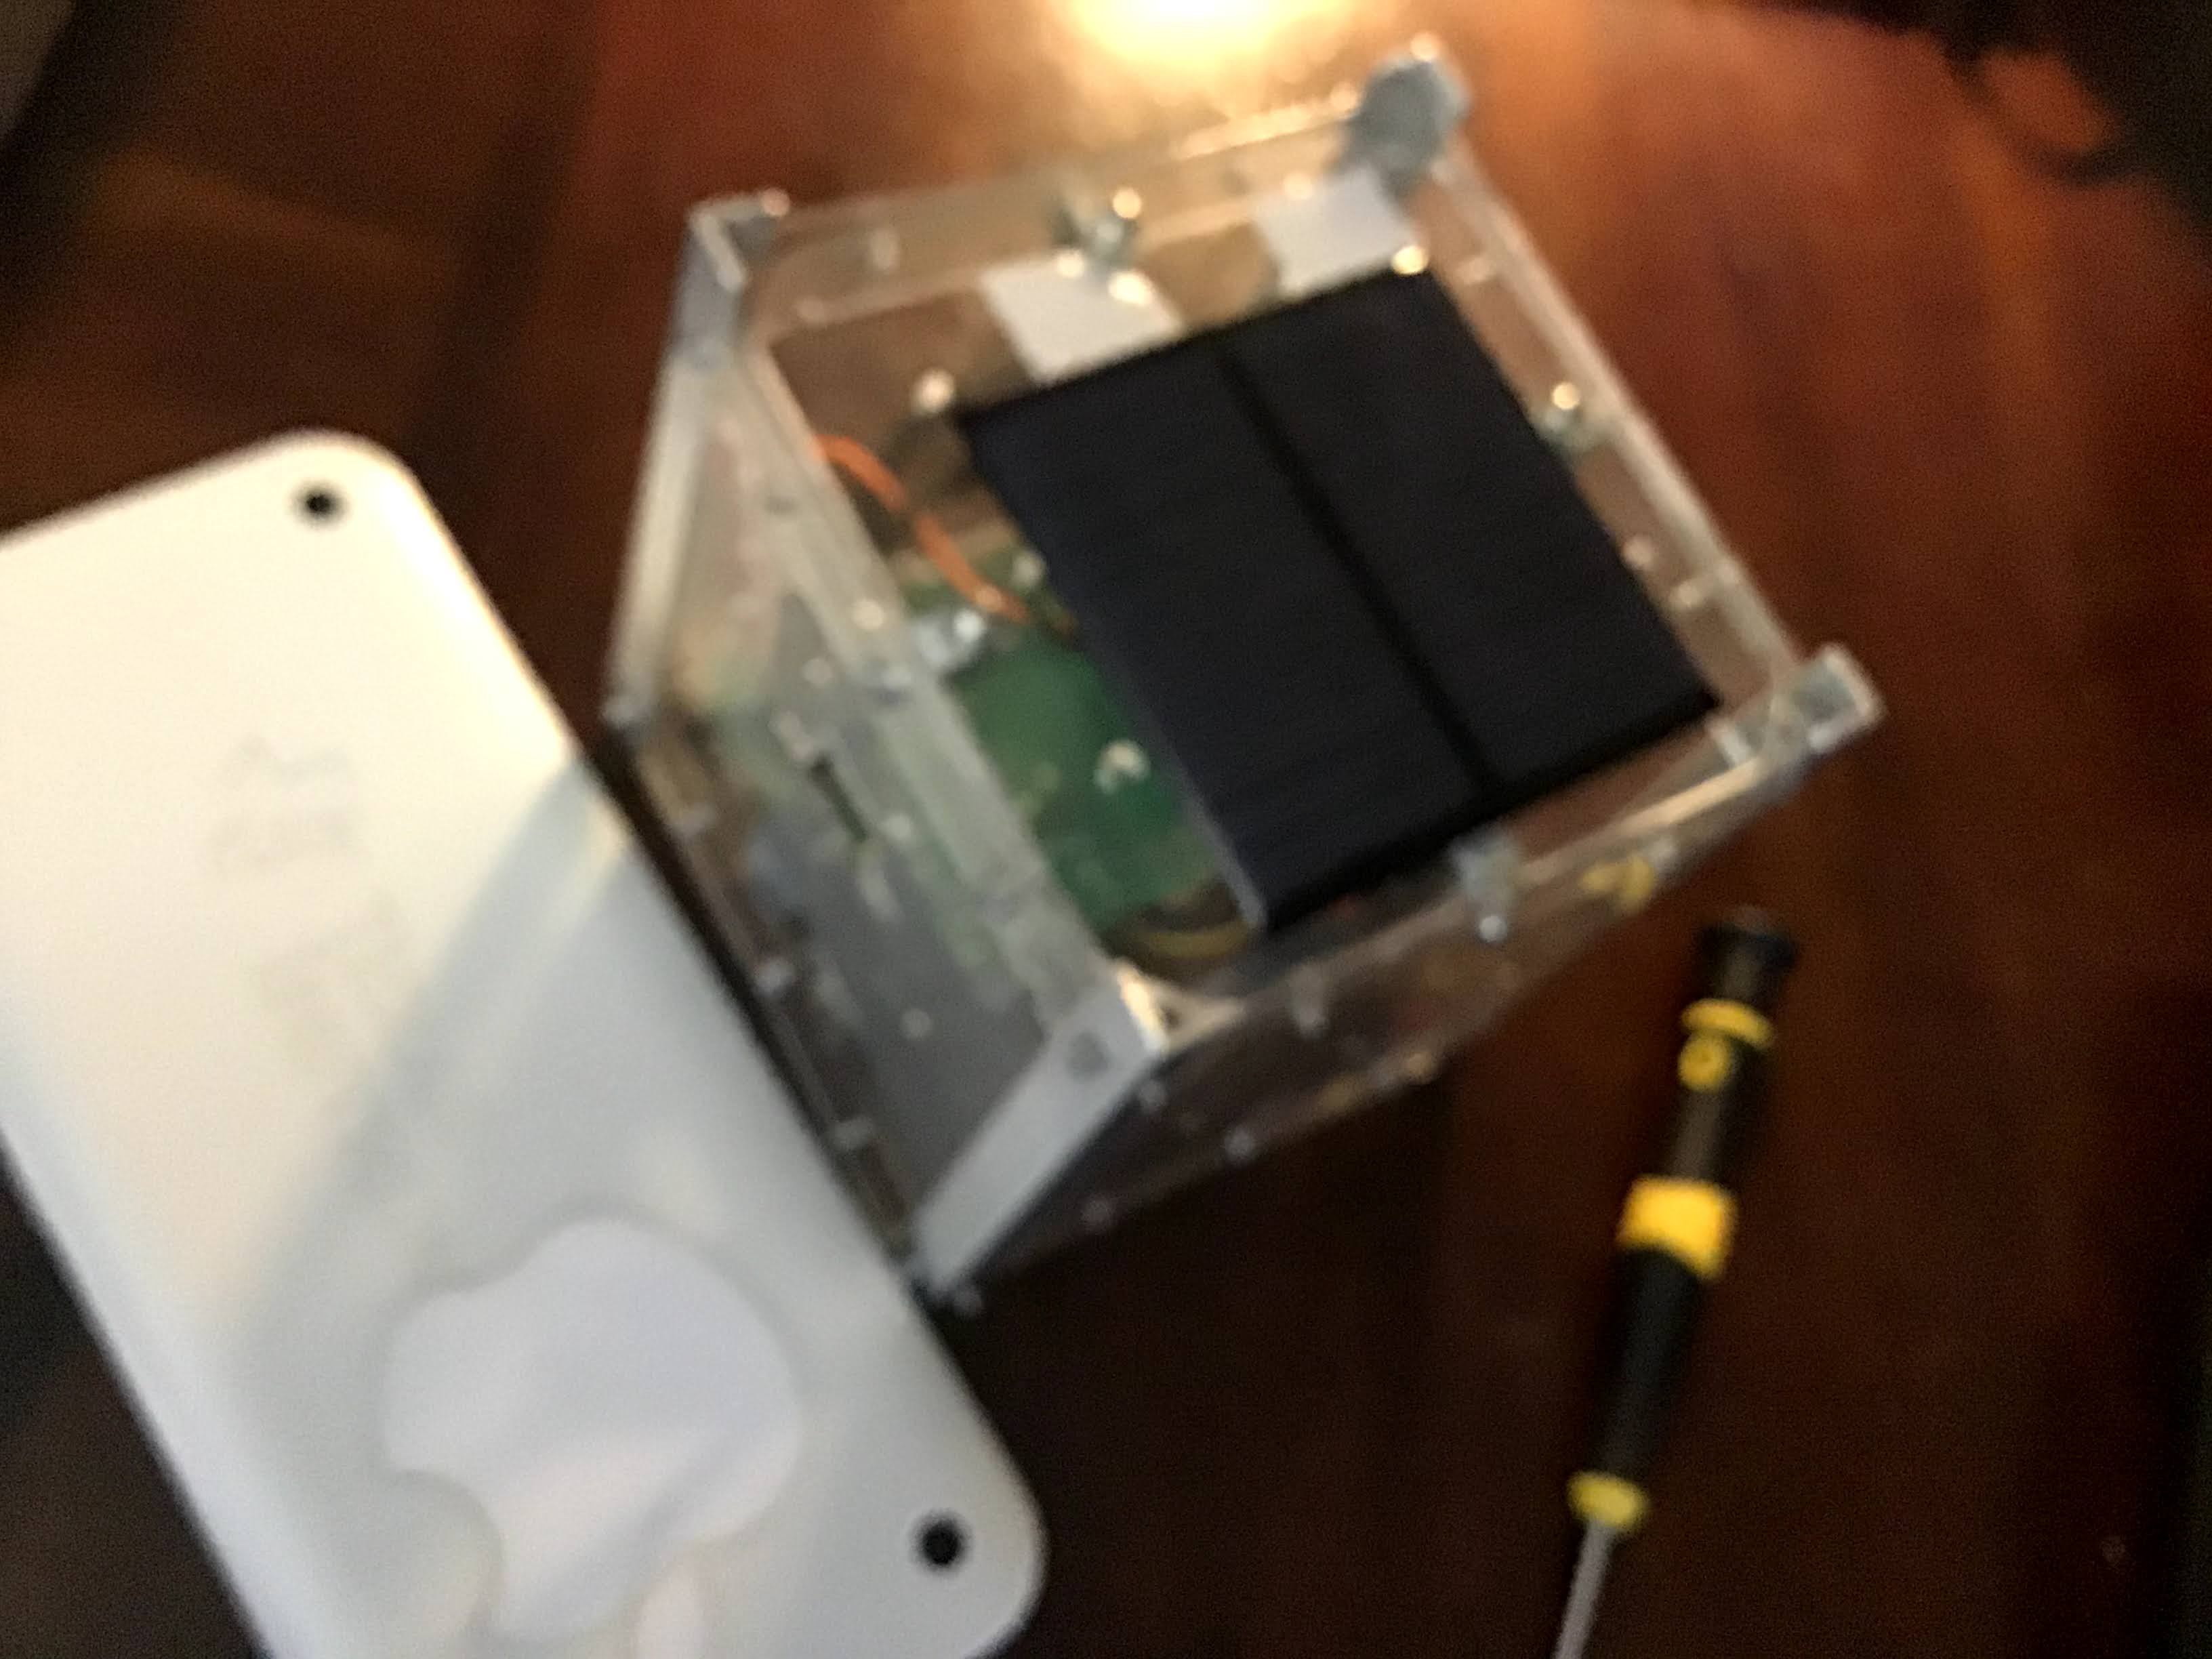Space-debris-cubesat: (599, 129, 1886, 1321)
